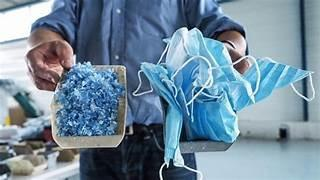Mask: (139, 28, 310, 168)
